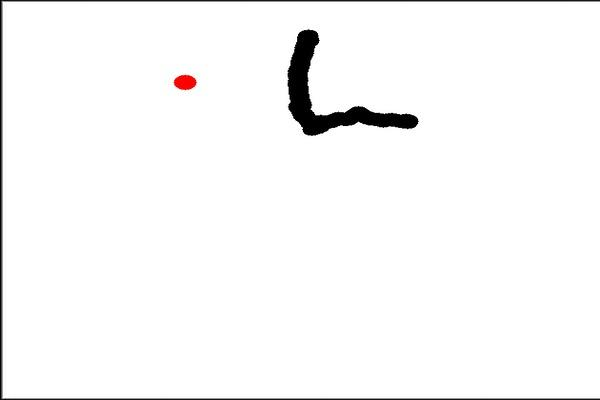L: (278, 24, 426, 140)
